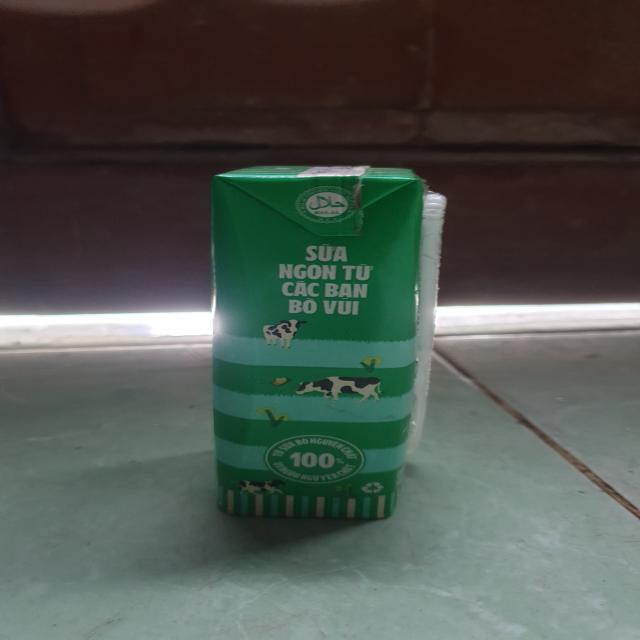Vina: (204, 158, 450, 531)
